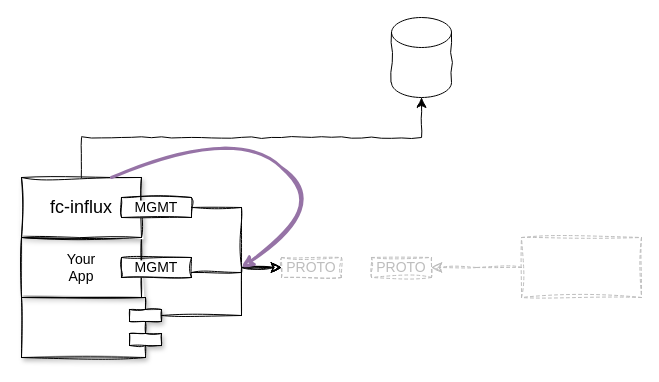
The diagram is 659 pixels wide and 382 high, and some of its shapes have lost their labels. Here are the shapes that lost their labels. From the top down, the centre of each, then its label:
At pixel 421 57: "InfluxDB".
At pixel 581 267: "Tool".
At pixel 92 328: "Other...".
